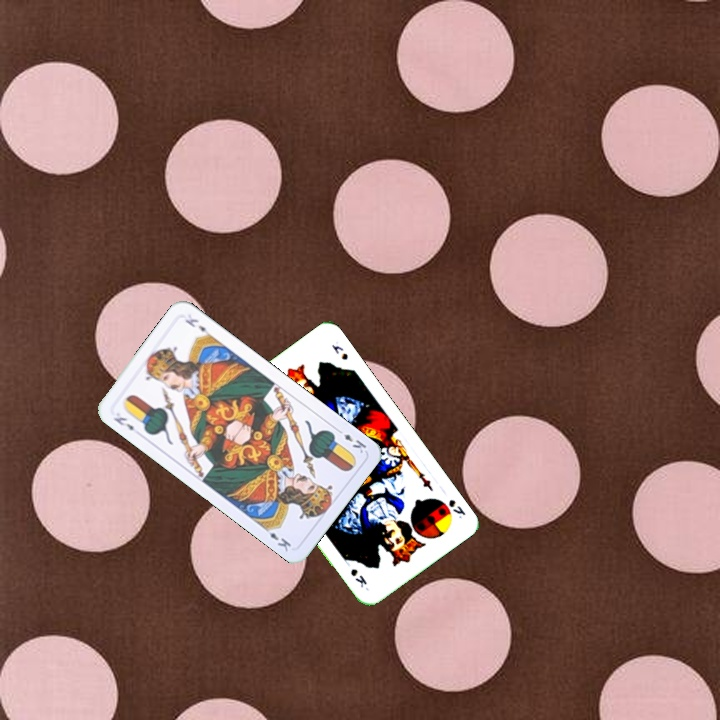EK: (332, 424, 369, 456), (109, 413, 137, 433)
SK: (444, 495, 468, 522)
